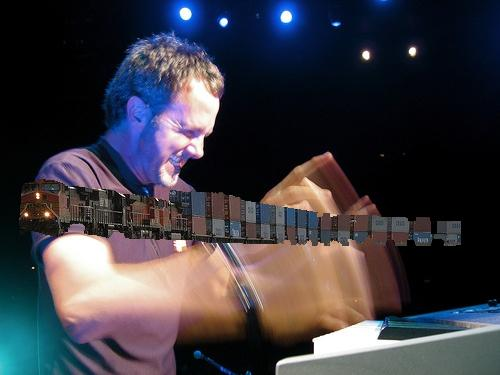tampered: (20, 180, 461, 246)
